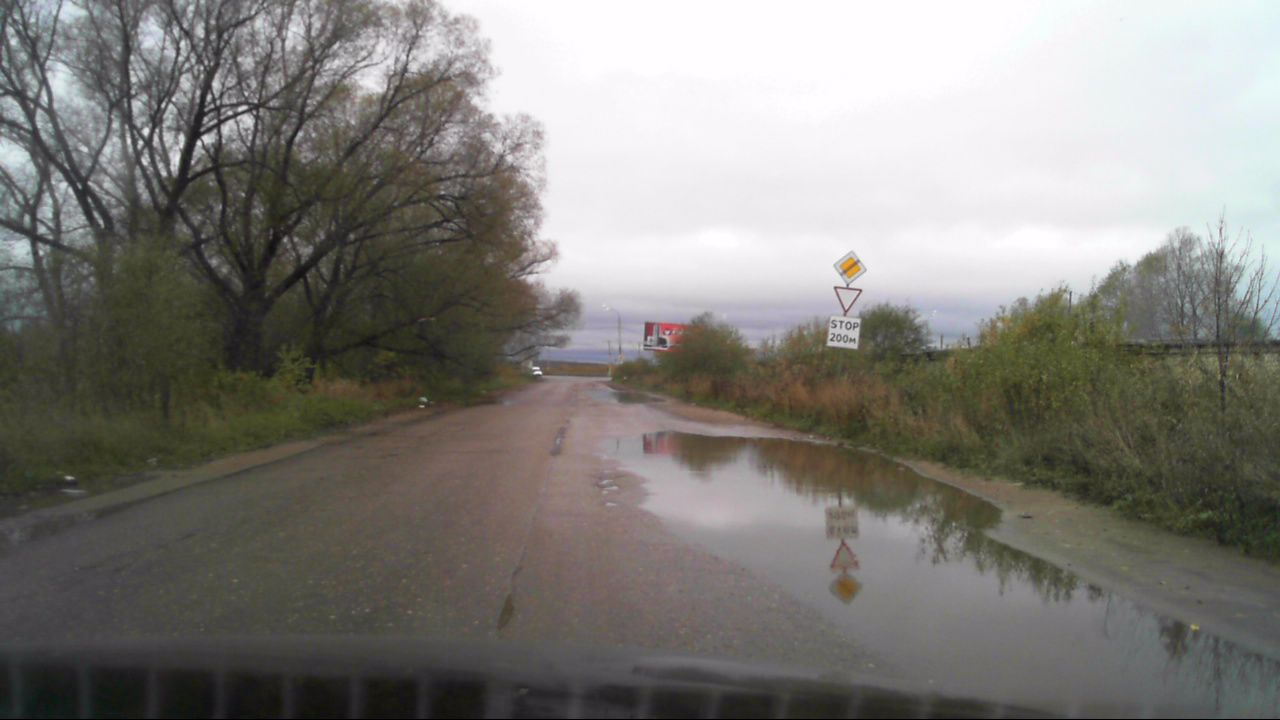main road: (832, 248, 866, 283)
